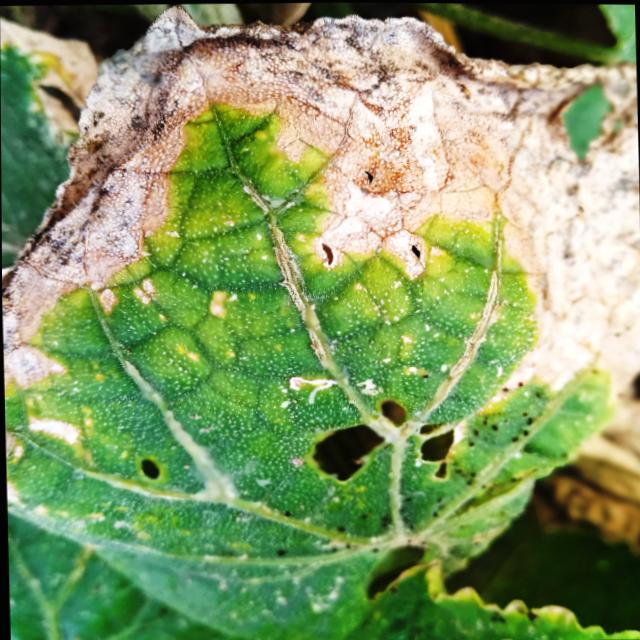Gummy-Stem-Blight: (0, 3, 640, 411)
